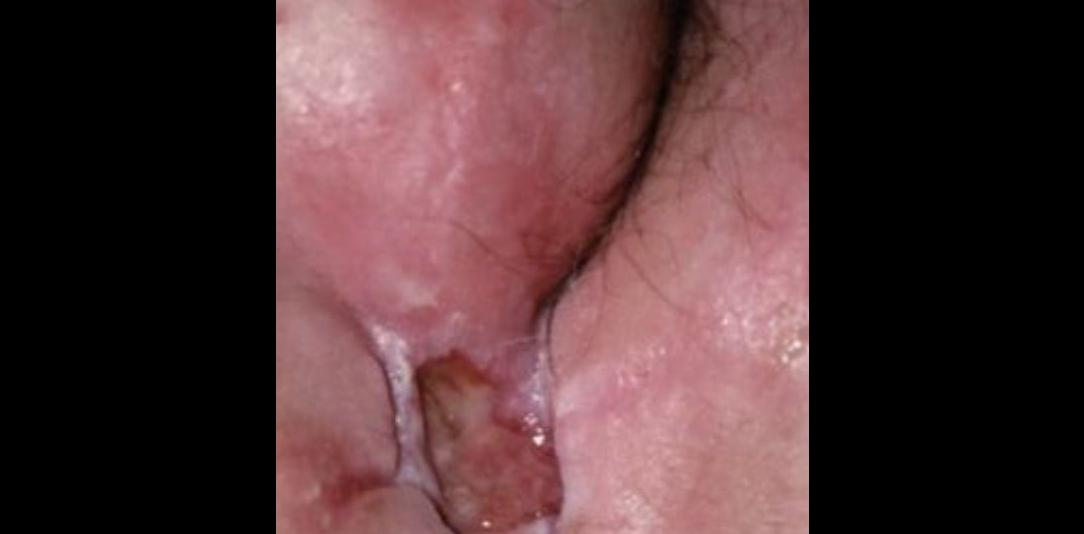Stage3: (276, 265, 651, 534)
